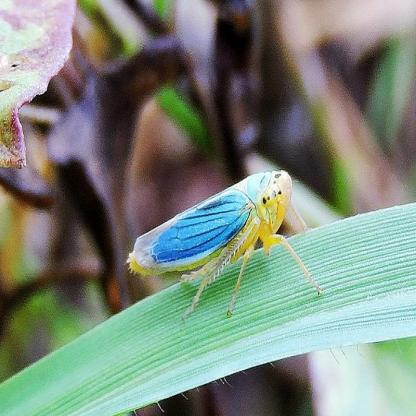Green-Leafhopper: (124, 166, 329, 315)
